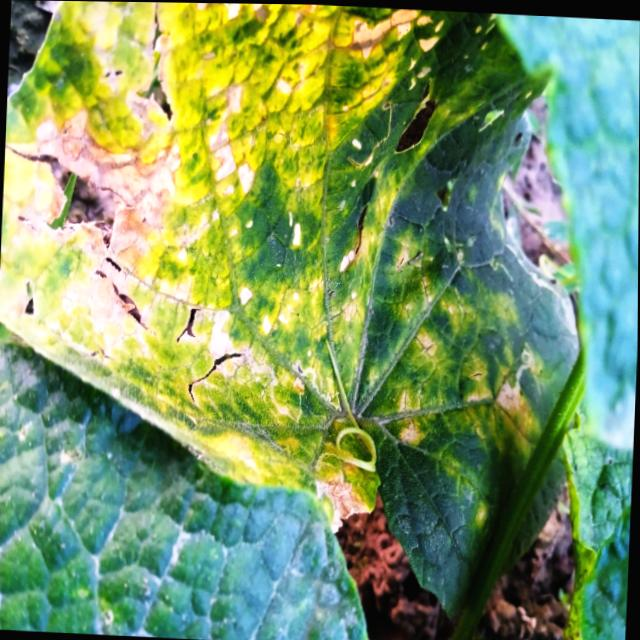Anthracnose: (0, 146, 157, 339), (386, 72, 442, 165), (128, 48, 182, 139)
